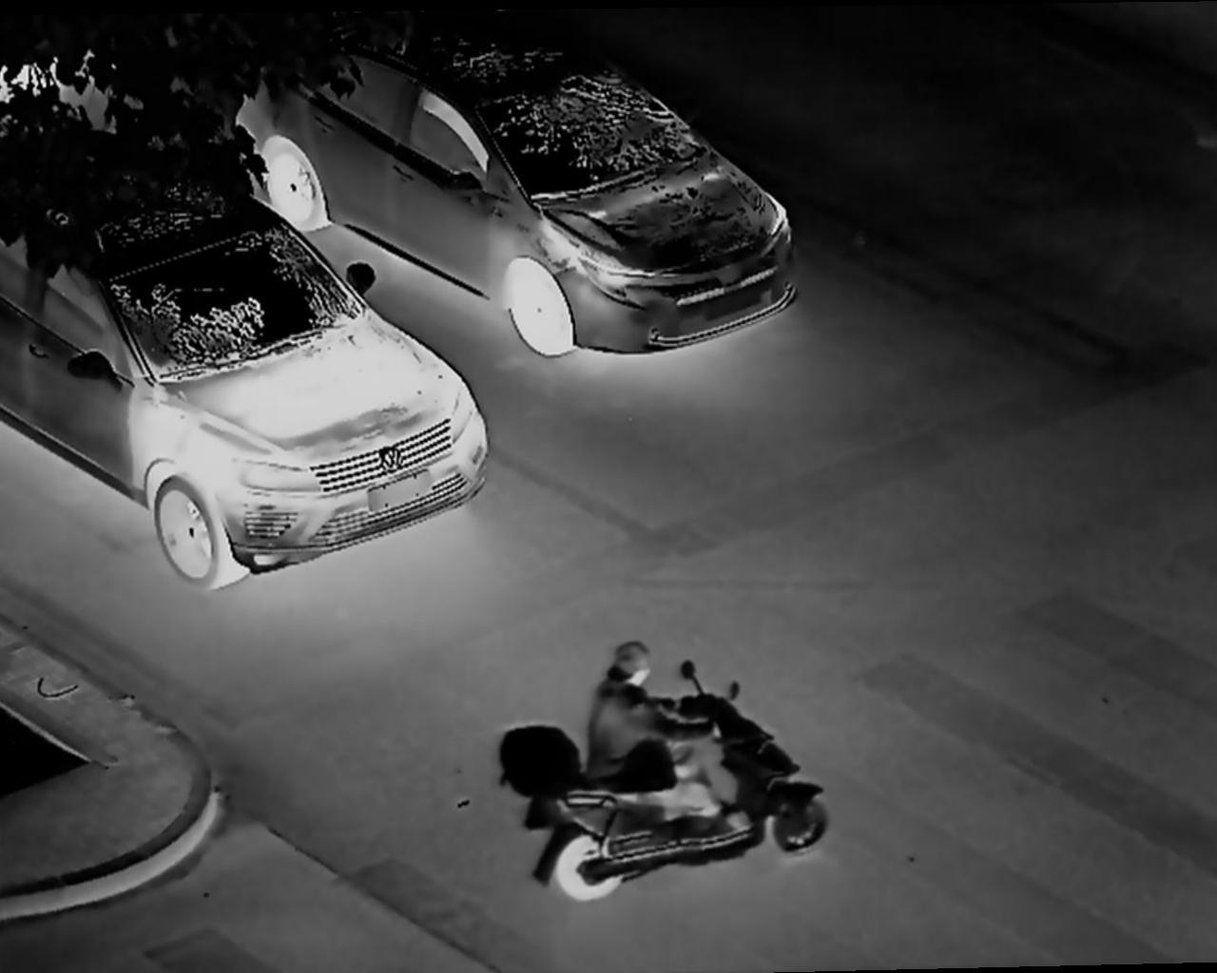person: (593, 637, 722, 853)
